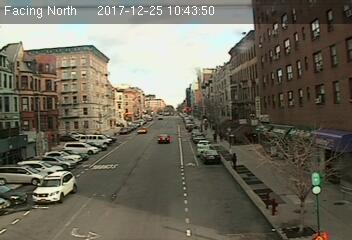car: (28, 170, 78, 205), (201, 149, 221, 163), (157, 134, 170, 143)
